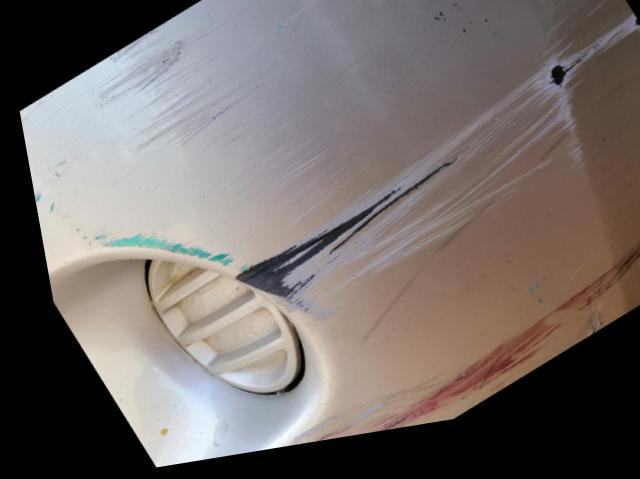rub: (16, 0, 640, 325), (256, 224, 640, 455)
